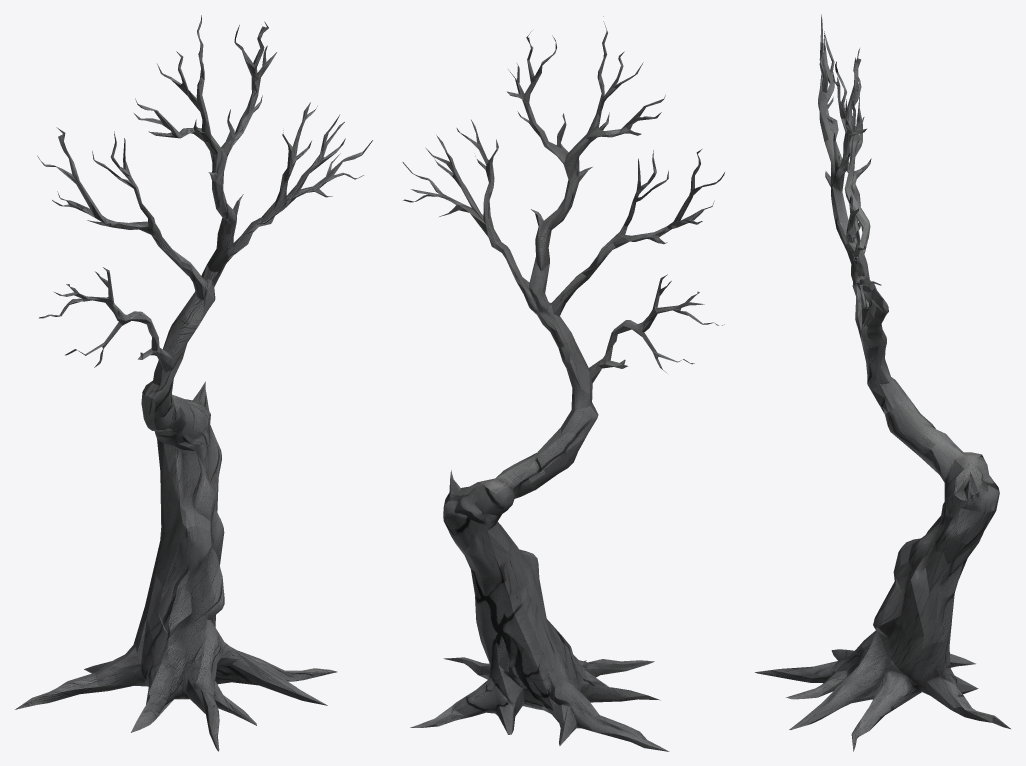
The model's file is tree_dead.glb.
The picture shows the model from 3 angles, left to right: view 1: azimuth 30°, elevation 25°; view 2: azimuth 150°, elevation 25°; view 3: azimuth 270°, elevation 25°; orthographic projection. The views are drawn at different scales.
Bounding box in the file's own units: 0.9522 × 1.9 × 0.6631.
1 material, 1 textured.
